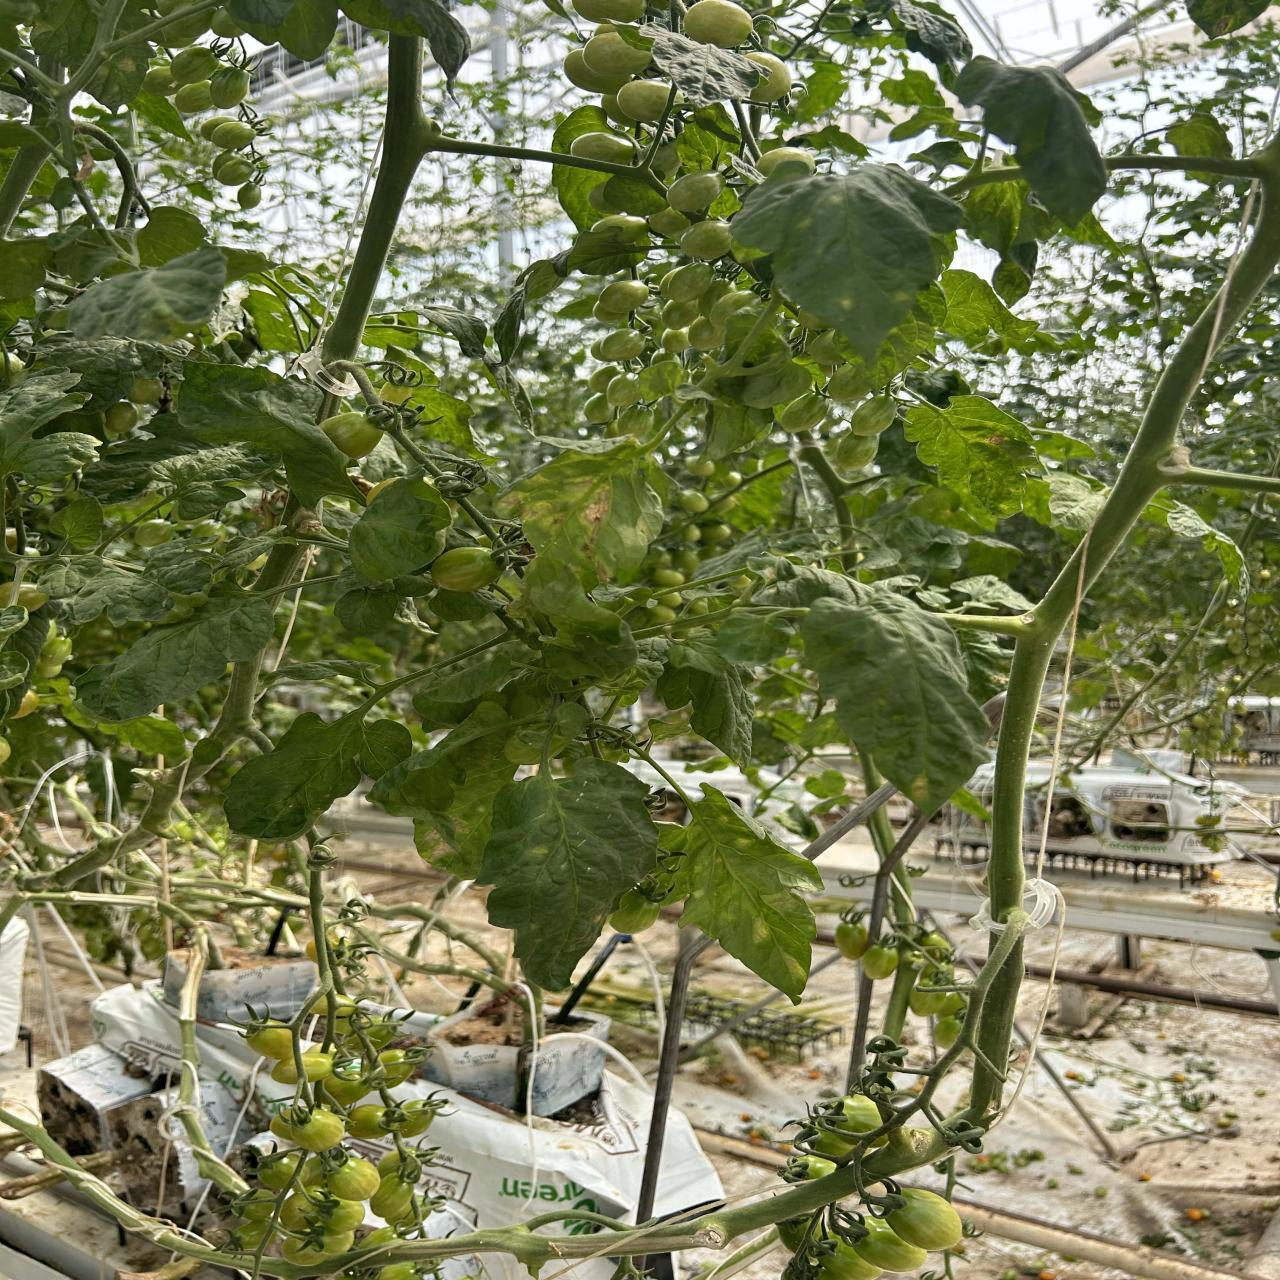Rugose leaf: (731, 164, 962, 358), (477, 758, 659, 990), (661, 784, 822, 998), (493, 441, 665, 619), (224, 710, 411, 839), (388, 728, 518, 878)
